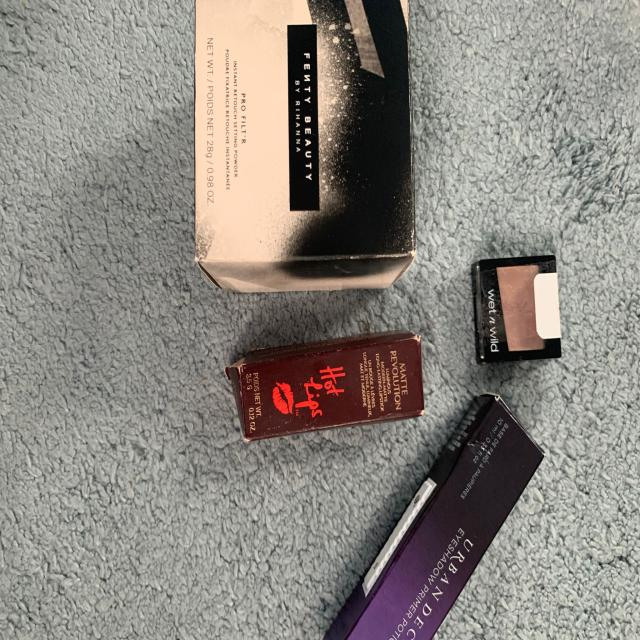lip shade: (458, 238, 574, 381)
lip stick: (207, 322, 440, 452)
